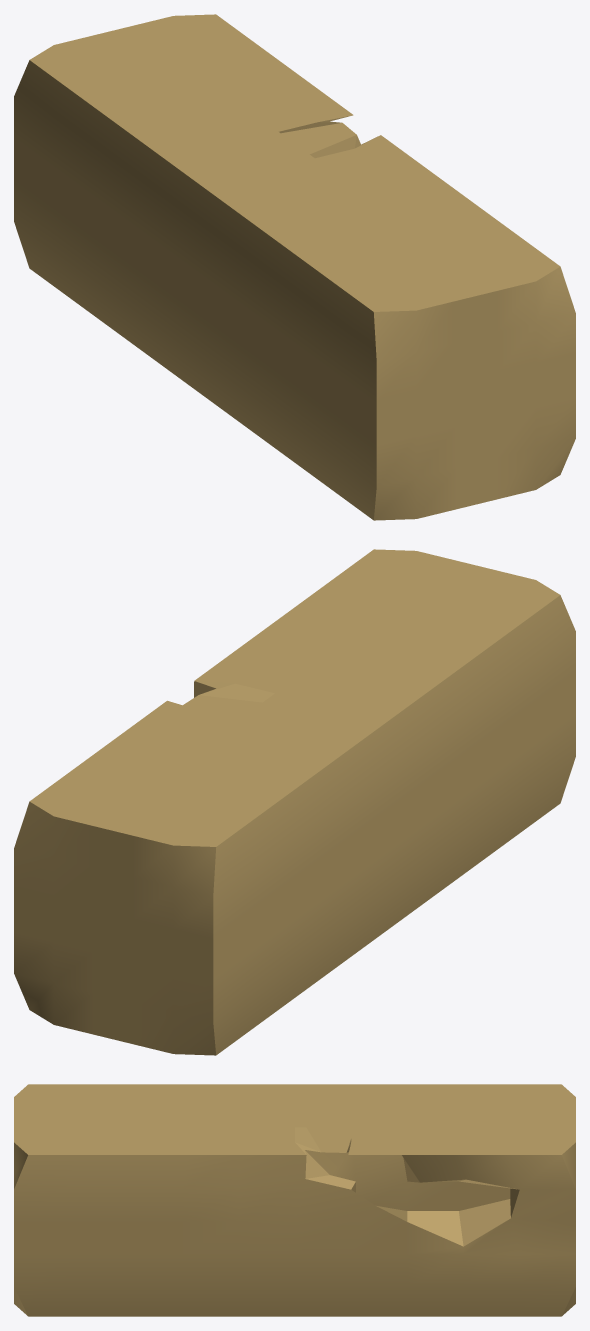
File: cracked brick 1.fbx
3 views of the same model, one above another, from view 1: azimuth 30°, elevation 25°; view 2: azimuth 150°, elevation 25°; view 3: azimuth 270°, elevation 25° (orthographic). The views are drawn at different scales.
Visible parts, largest first — view 1: pCube14; view 2: pCube14; view 3: pCube14.
Part boxes in pixels (left/top/right/bottom): pCube14: left=14, top=14, right=575, bottom=520; pCube14: left=14, top=549, right=575, bottom=1055; pCube14: left=14, top=1084, right=575, bottom=1316.
Bounding box in the file's own units: 0.714 × 0.714 × 2.25.
